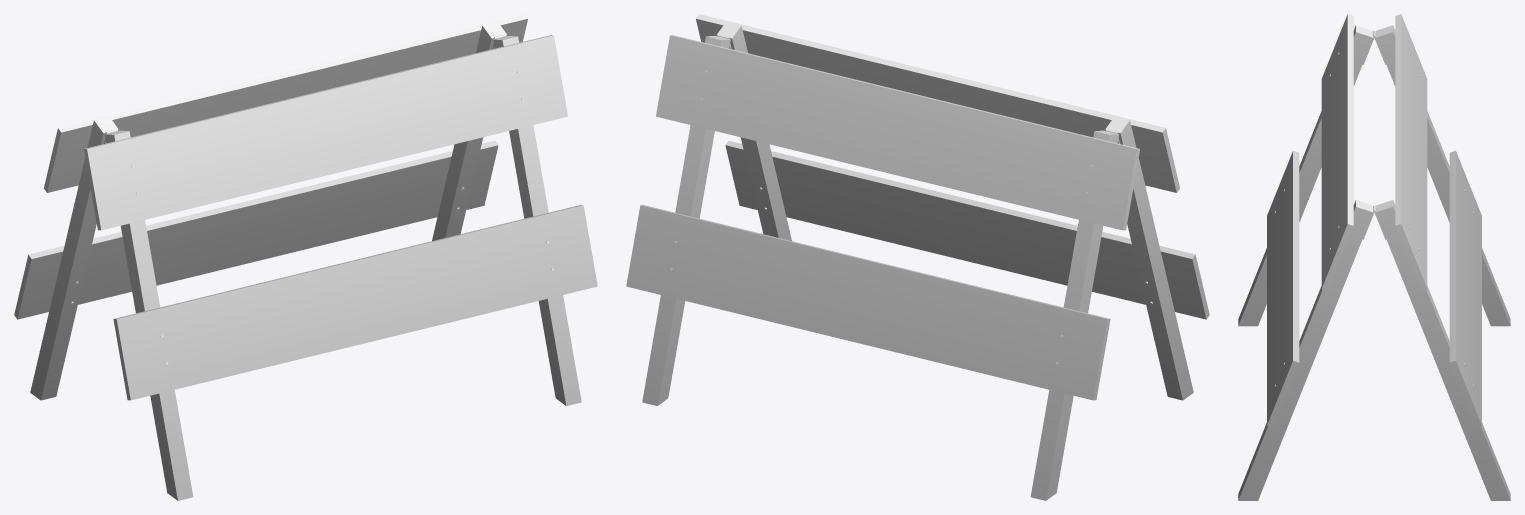
The model's file is simple_barricade_01_large.glb.
The picture shows the model from 3 angles, left to right: view 1: azimuth 30°, elevation 25°; view 2: azimuth 150°, elevation 25°; view 3: azimuth 270°, elevation 25°; orthographic projection. The views are drawn at different scales.
Parts seen in each view (by area): view 1: simple_barricade_01_large; view 2: simple_barricade_01_large; view 3: simple_barricade_01_large.
Boxes of the visible parts, x1=… form: simple_barricade_01_large: x1=14, y1=14, x2=597, y2=500; simple_barricade_01_large: x1=626, y1=14, x2=1209, y2=500; simple_barricade_01_large: x1=1238, y1=14, x2=1510, y2=500.
Bounding box in the file's own units: 1.51 × 0.9894 × 0.8304.
Materials: 1 (1 with a texture image).
